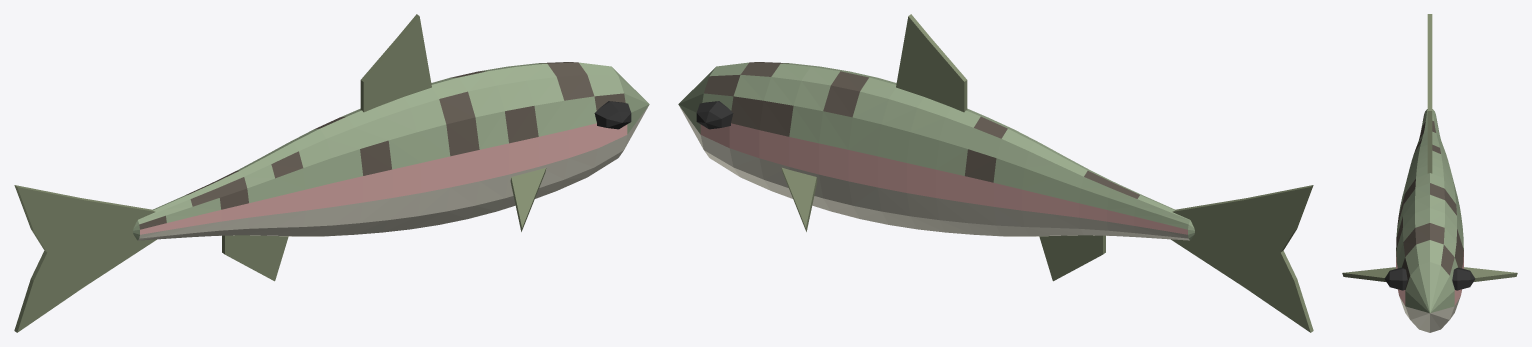
File: fish_trout.fbx
3 renders of one model, left to right at view 1: azimuth 30°, elevation 25°; view 2: azimuth 150°, elevation 25°; view 3: azimuth 270°, elevation 25°, orthographic. The views are drawn at different scales.
Parts seen in each view (by area): view 1: fish_trout; view 2: fish_trout; view 3: fish_trout.
Boxes of the visible parts, x1=… form: fish_trout: x1=14, y1=14, x2=649, y2=332; fish_trout: x1=678, y1=14, x2=1313, y2=332; fish_trout: x1=1342, y1=14, x2=1517, y2=332.
Bounding box in the file's own units: 40 × 13.88 × 12.27.
